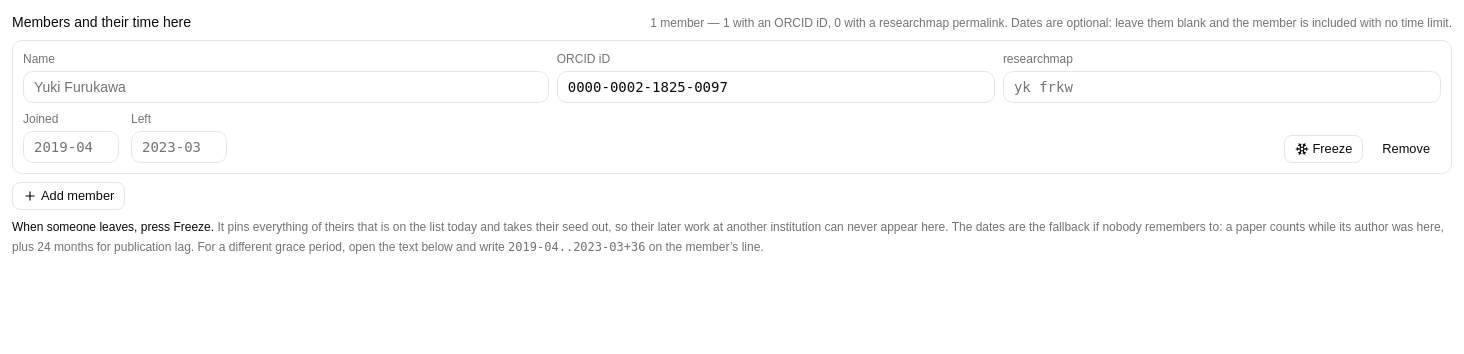
Test: Freeze needs a built list › states what confirming would do, without doing it
Click the button "Freeze" at (1323, 149), box x1=1284 y1=135 x2=1363 y2=163
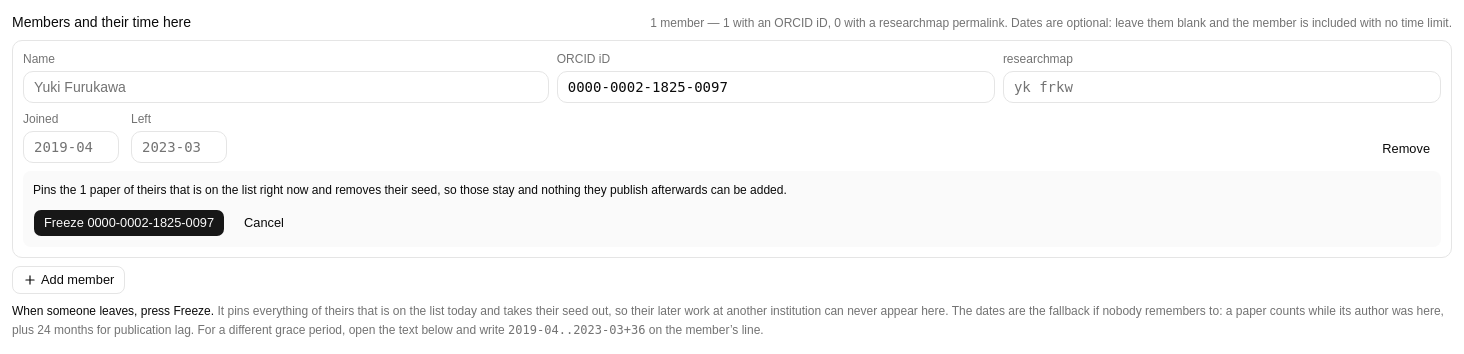
Now the text "Pins the 1 paper" is shown, box x1=33 y1=183 x2=787 y2=197
